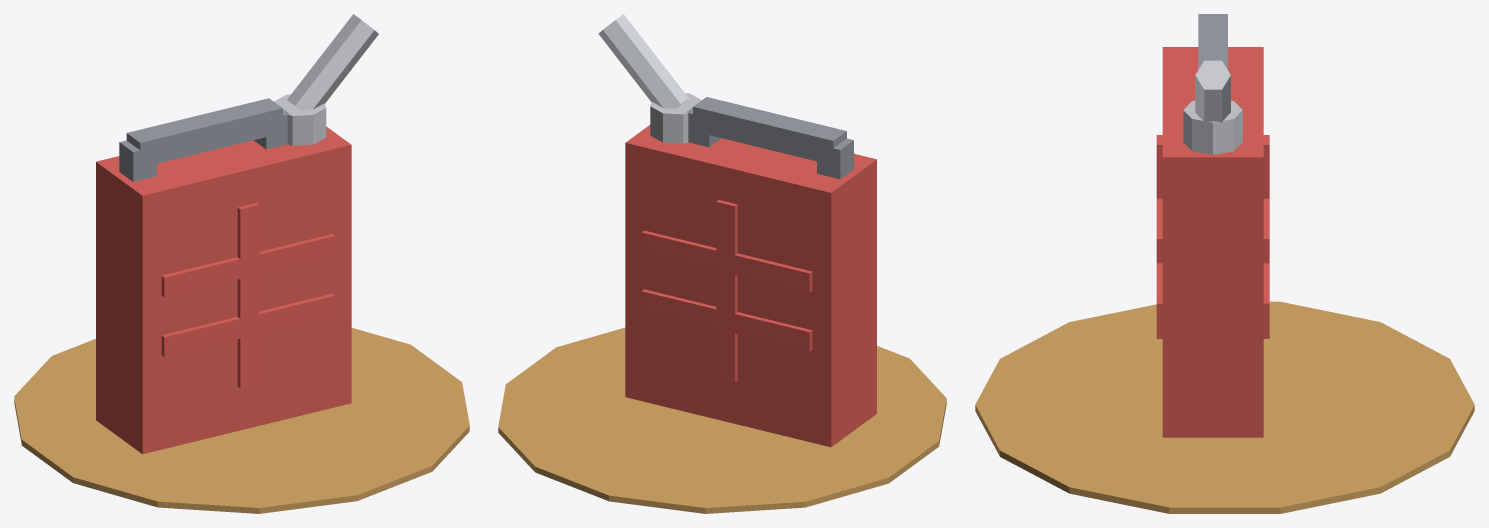
File: item_gasoline.glb
3 views of the same model, side by side, from view 1: azimuth 30°, elevation 25°; view 2: azimuth 150°, elevation 25°; view 3: azimuth 270°, elevation 25° (orthographic). The views are drawn at different scales.
Parts seen in each view (by area): view 1: item_gasoline; view 2: item_gasoline; view 3: item_gasoline.
Part boxes in pixels (<box>): item_gasoline: <box>14,14,469,513</box>; item_gasoline: <box>498,14,946,513</box>; item_gasoline: <box>975,14,1474,513</box>.
Size of the model in its own units: 0.8189 by 0.7584 by 0.84.
